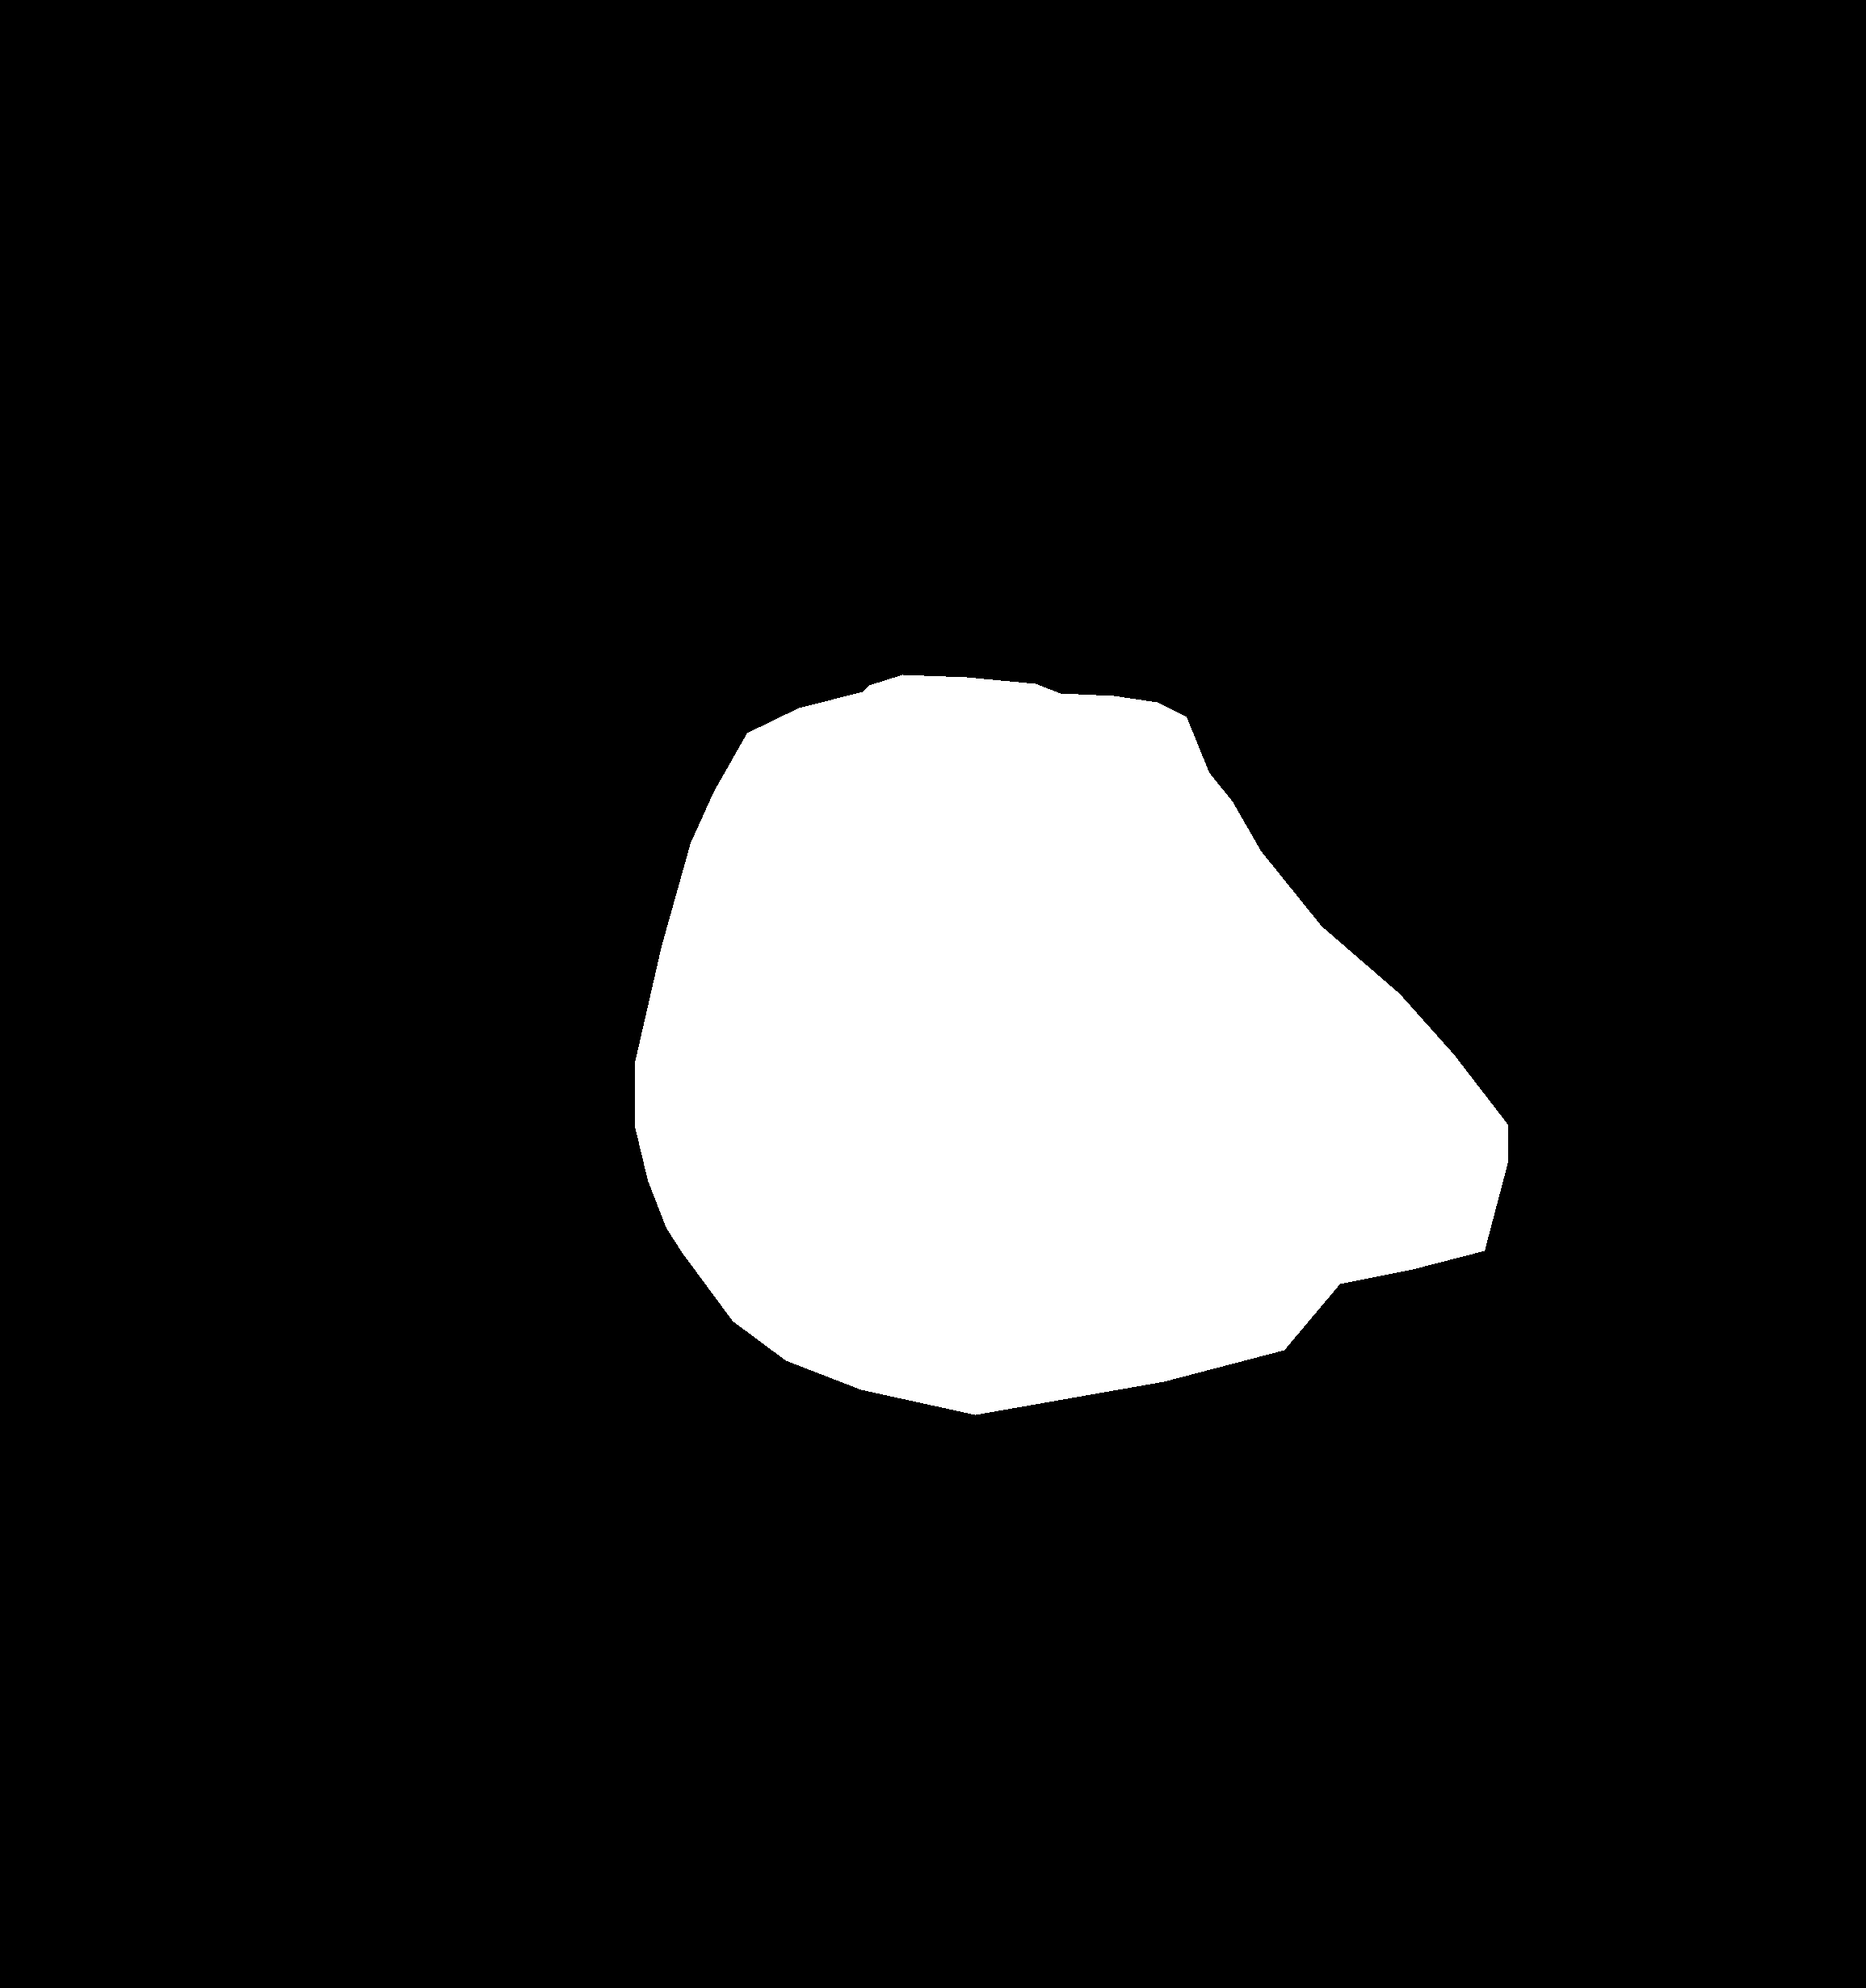heart: (635, 675, 1506, 1415)
left_lung: (133, 186, 893, 1497)
right_lung: (1128, 203, 1654, 1345)
